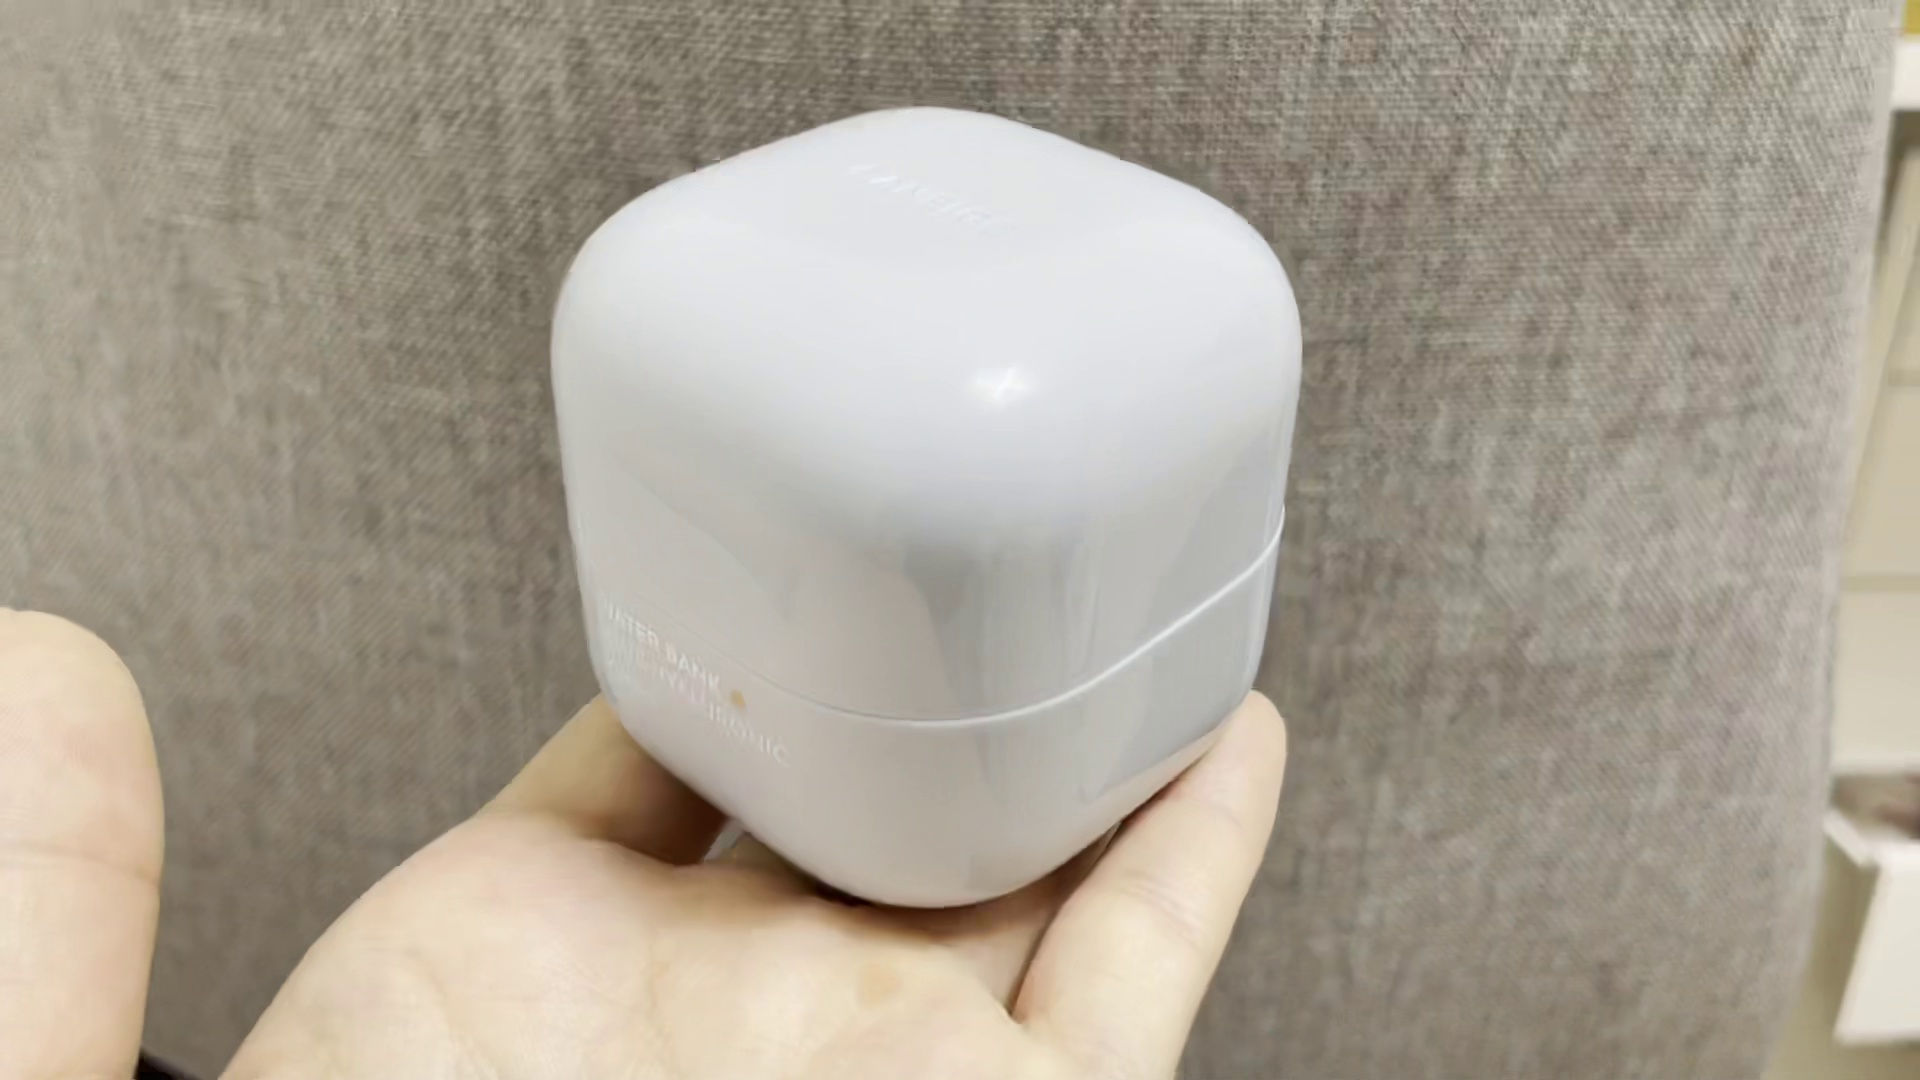cream: (553, 112, 1308, 910)
